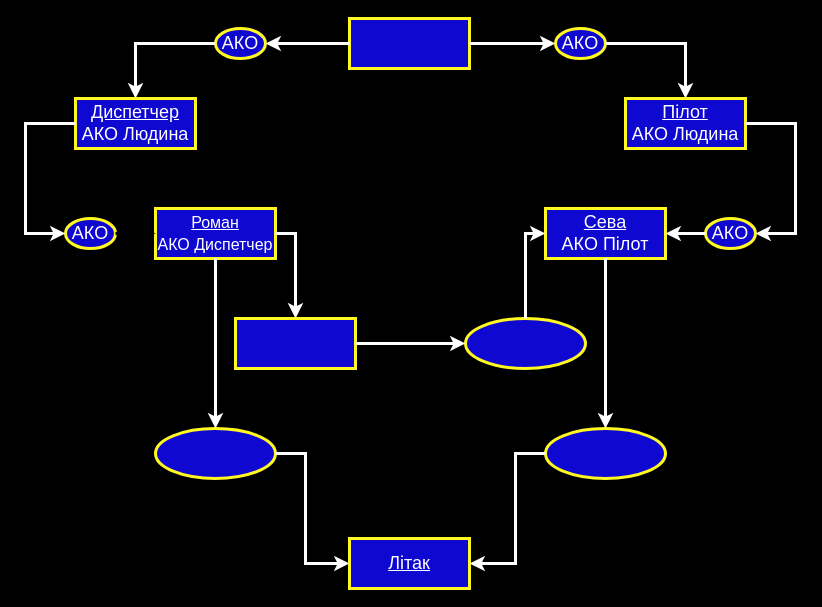
Image size: 822x607. Some labels were removed from this diagram. Here are the shapes that lost their labels. From the top down, the centre of each, then its label:
(409,43): Людина
(295,343): Зв'язок
(525,343): Слот: Ситуація 1-7
(215,453): Слот: Ціль
(605,453): Слот: Дія 1-5
